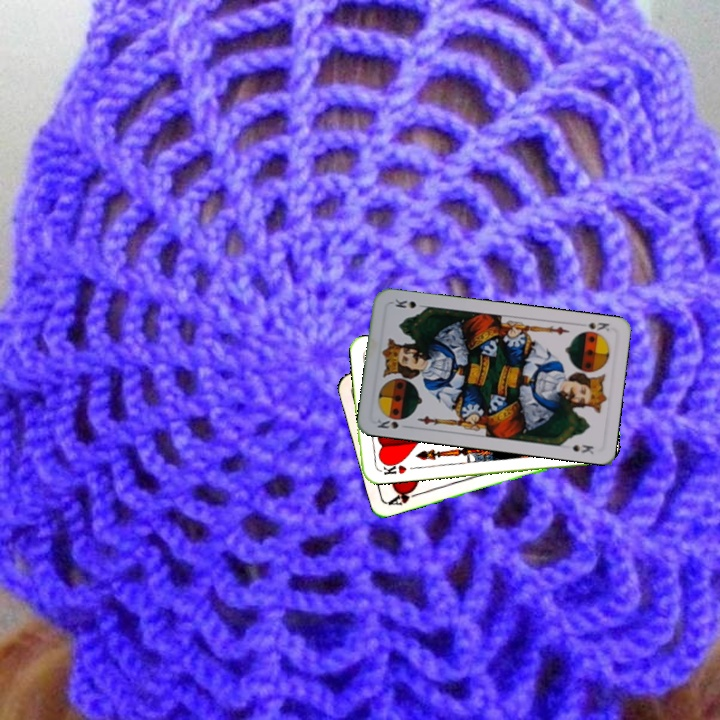HA: (385, 484, 425, 508)
HK: (379, 457, 409, 477)
SK: (372, 415, 412, 431), (574, 318, 612, 334)
